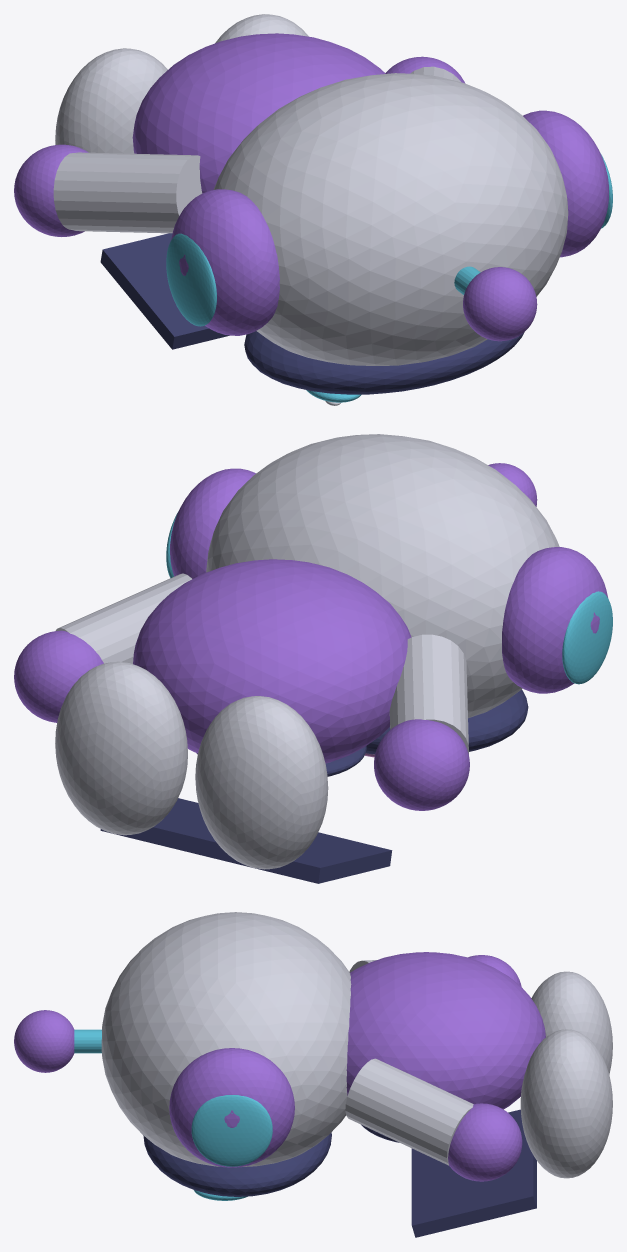
File: robot_mascot_3d.glb
3 views of the same model, one above another, from view 1: azimuth 30°, elevation 25°; view 2: azimuth 150°, elevation 25°; view 3: azimuth 270°, elevation 25° (orthographic). The views are drawn at different scales.
Visible parts, largest first — view 1: head, body, arm, ear, foot, face visor, ear_1, laptop screen, antenna orb, hand, ear light, foot_1 (+1 smaller); view 2: head, body, foot, foot_1, ear, hand, laptop screen, arm, hand_1, ear_1, arm_1, ear light (+2 smaller); view 3: head, body, foot_1, arm_1, ear_1, laptop screen, face visor, ear light_1, hand_1, foot, antenna orb, antenna (+1 smaller).
Boxes of the visible parts, box(x1,y1,x2,y2) form: head: box(213, 73, 568, 365); body: box(132, 33, 385, 193); arm: box(53, 152, 202, 233); ear: box(171, 189, 279, 335); foot: box(55, 48, 167, 153); face visor: box(244, 331, 524, 394); ear_1: box(523, 110, 608, 257); laptop screen: box(100, 233, 229, 349); antenna orb: box(463, 267, 537, 341); hand: box(14, 144, 88, 236); ear light: box(166, 233, 216, 326); foot_1: box(215, 14, 308, 43); head: box(206, 434, 559, 718); body: box(133, 559, 411, 763); foot: box(195, 696, 328, 869); foot_1: box(55, 661, 187, 835); ear: box(502, 547, 607, 693); hand: box(374, 719, 469, 810); laptop screen: box(100, 798, 392, 883); arm: box(389, 634, 468, 754); hand_1: box(14, 630, 103, 722); ear_1: box(170, 468, 255, 578); arm_1: box(55, 573, 191, 663); ear light: box(562, 591, 612, 684); head: box(101, 912, 351, 1166); body: box(346, 952, 545, 1109); foot_1: box(520, 1029, 612, 1178); arm_1: box(345, 1058, 473, 1165); ear_1: box(169, 1048, 294, 1167); laptop screen: box(411, 1109, 536, 1237); face visor: box(143, 1132, 331, 1196); ear light_1: box(191, 1095, 272, 1166); hand_1: box(448, 1103, 522, 1181); foot: box(531, 971, 612, 1074); antenna orb: box(14, 1010, 74, 1072); antenna: box(74, 1029, 101, 1053).
Bounding box in the file's own units: 2.34 × 1.56 × 3.24.
